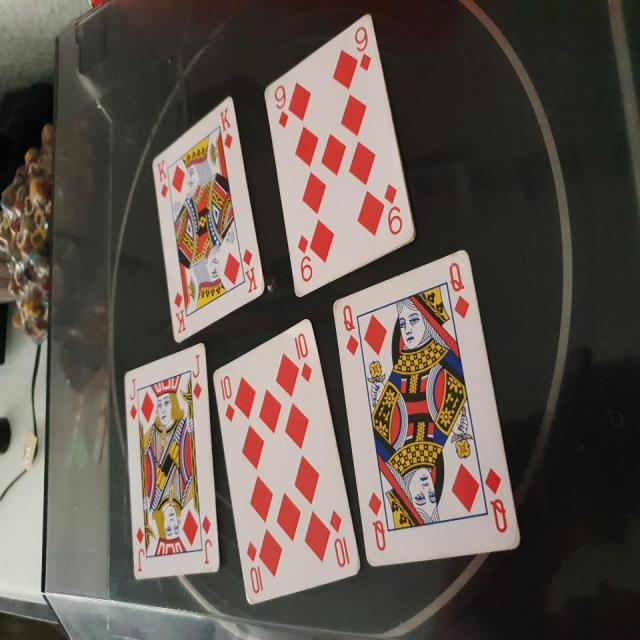10 Diamonds: (212, 316, 361, 604)
9 Diamonds: (264, 13, 416, 298)
J Diamonds: (123, 340, 223, 580)
K Diamonds: (148, 93, 267, 343)
Q Diamonds: (330, 243, 522, 568)
